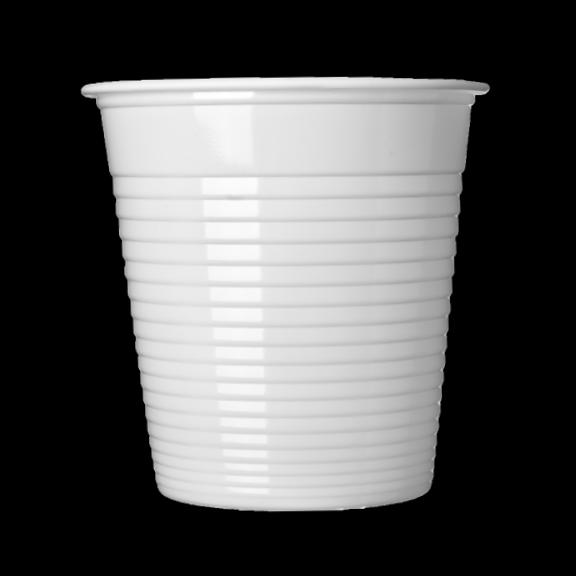Plastik: (83, 78, 488, 510)
